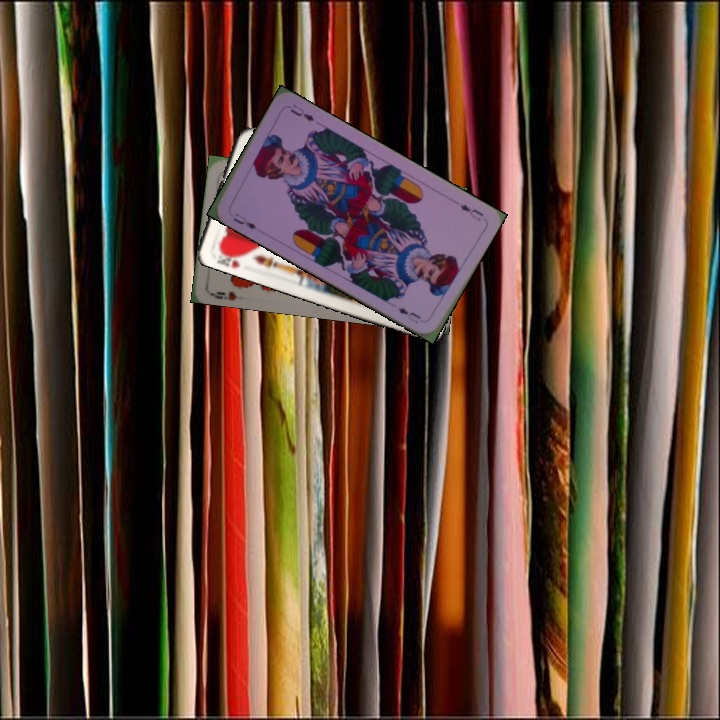EU: (456, 200, 486, 224), (229, 209, 259, 232)
H9: (206, 287, 239, 303)
HK: (213, 244, 248, 271)
